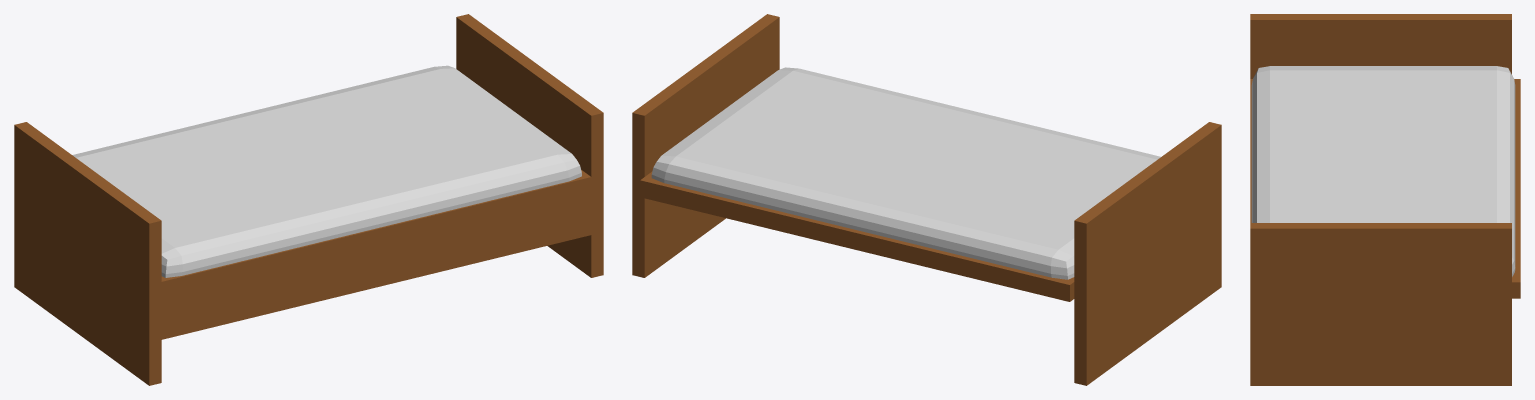
The model's file is Bench.glb.
3 views of the same model, side by side, from view 1: azimuth 30°, elevation 25°; view 2: azimuth 150°, elevation 25°; view 3: azimuth 270°, elevation 25° (orthographic). The views are drawn at different scales.
Parts seen in each view (by area): view 1: bench; view 2: bench; view 3: bench.
Part boxes in pixels (<box>): bench: <box>14,14,603,385</box>; bench: <box>632,14,1221,385</box>; bench: <box>1250,14,1520,385</box>.
Bounding box in the file's own units: 1.92 × 0.6546 × 1.02.
